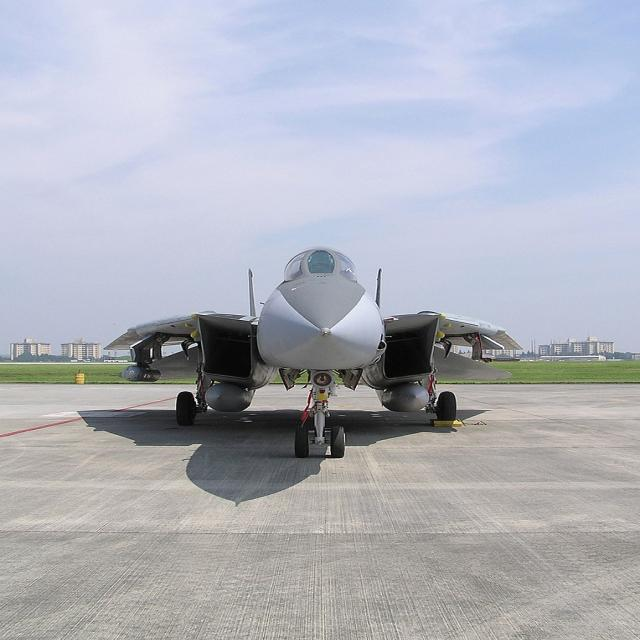MIL_Plane: (101, 245, 526, 458)
